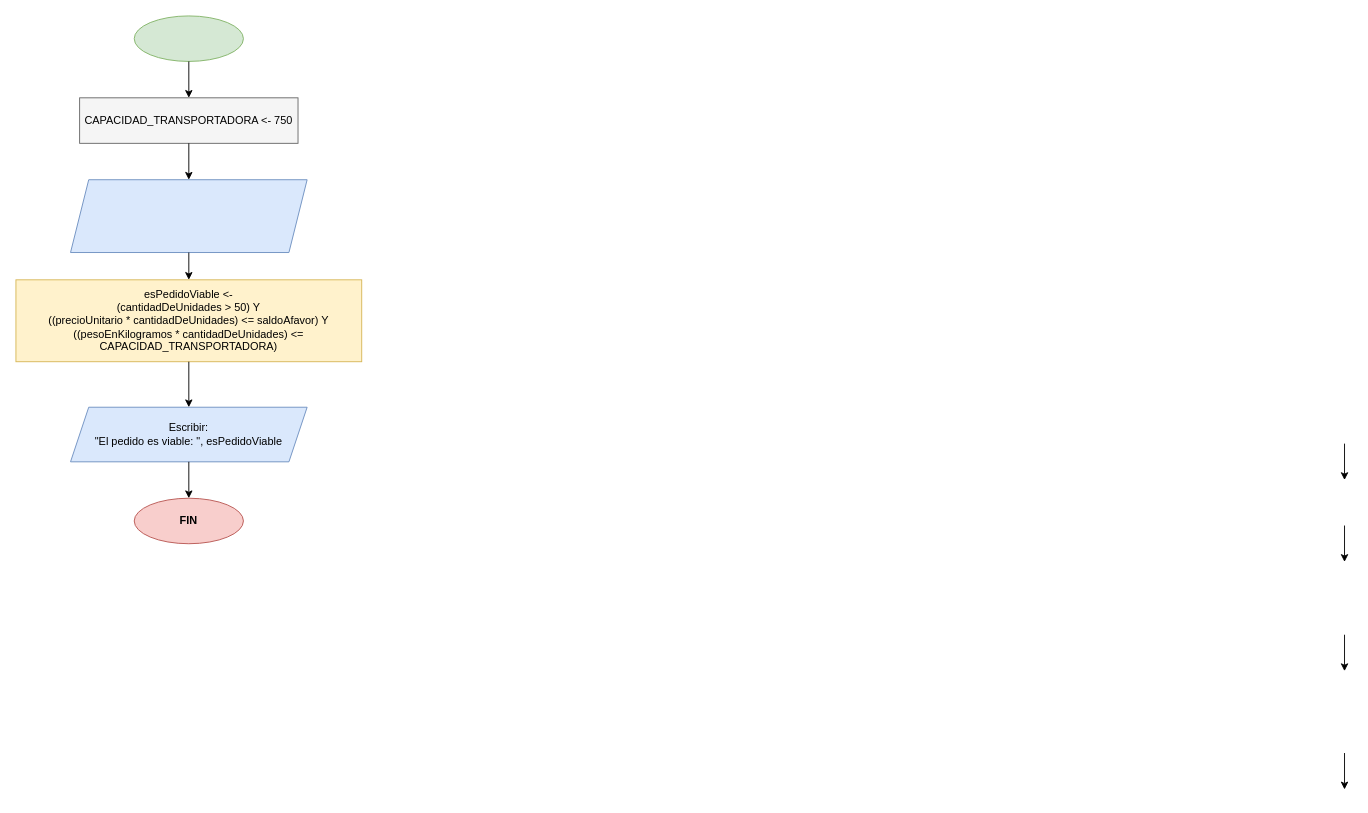
This 1368x813 diagram has some shape labels left out. Here are the shapes that lost their labels. From the top down, the centre of each, then its label:
At point (188, 38): "INICIO".
At point (188, 216): "Leer: precioUnitario, pesoEnKilogramos, cantidadDeUnidades, saldoAfavor".
